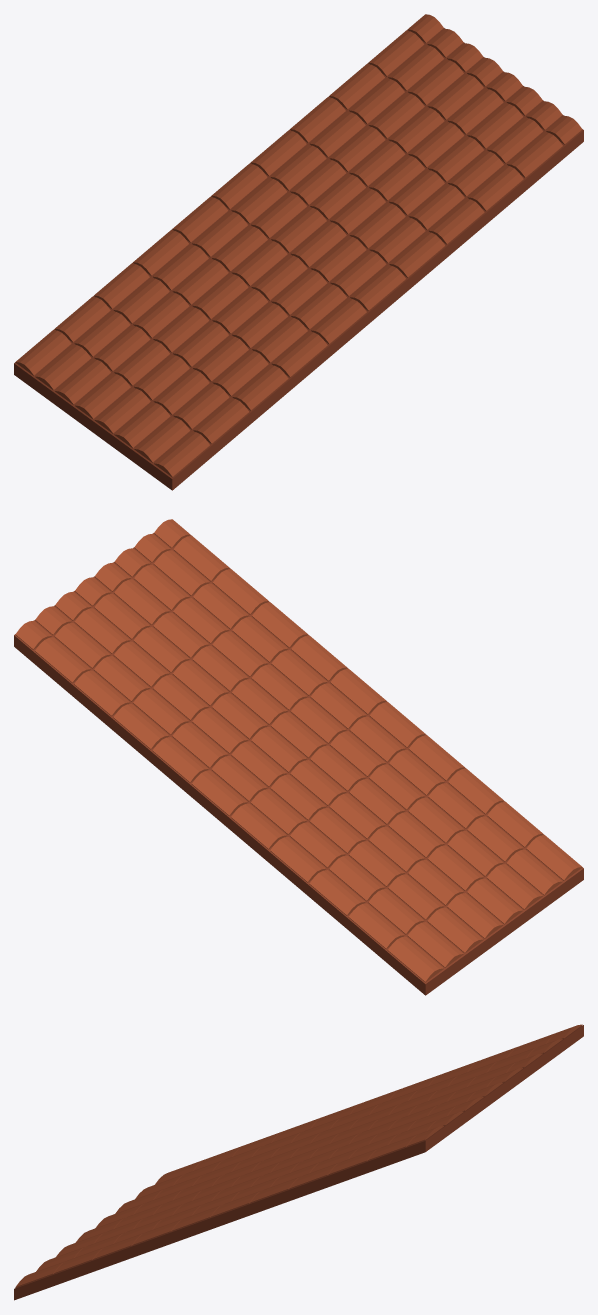
File: MH_Roof_Slope30_Run3x2m.fbx
3 renders of one model, top to bottom at view 1: azimuth 30°, elevation 25°; view 2: azimuth 150°, elevation 25°; view 3: azimuth 330°, elevation 25°, orthographic.
Visible parts, largest first — view 1: Body; view 2: Body; view 3: Body.
Part boxes in pixels (x1,y1,x2,y2): Body: [14, 14, 583, 490]; Body: [14, 519, 583, 995]; Body: [14, 1024, 583, 1300].
Size of the model in its own units: 3 by 1.84 by 2.
